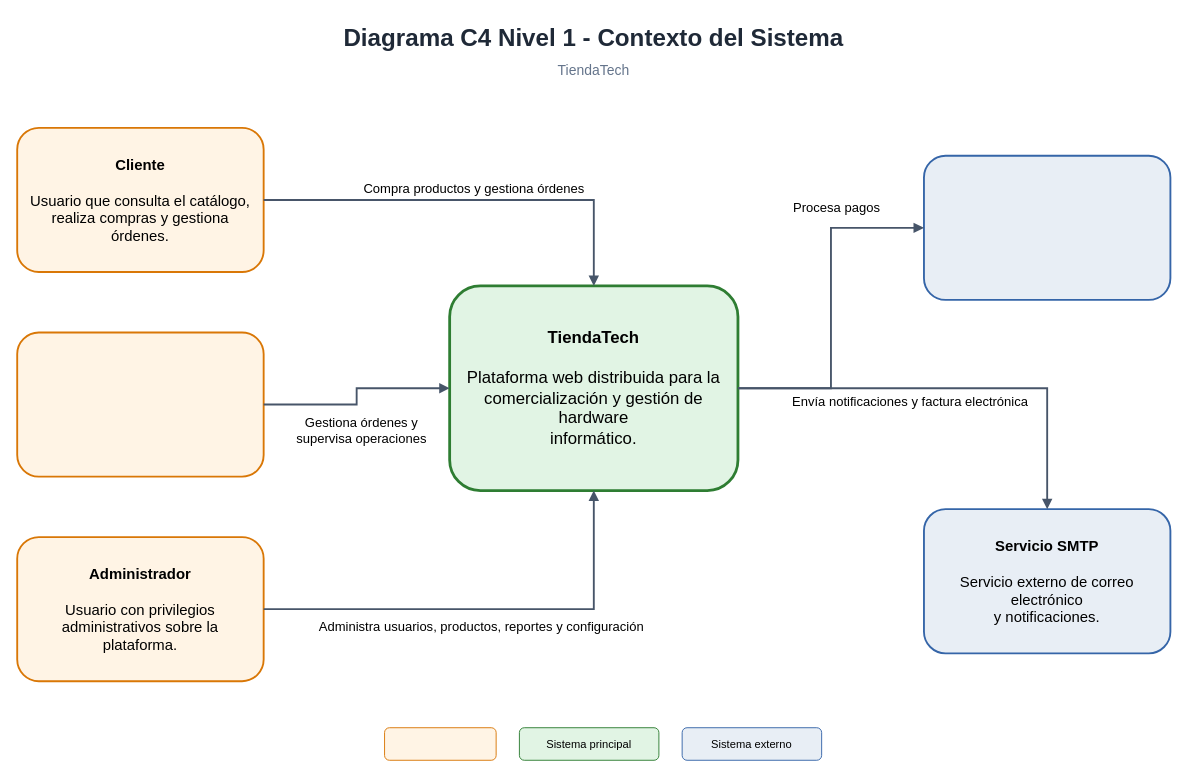
Image size: 1187x777. Some labels were removed from this diagram. The centre of each missing label's shape, as x and y in pixels:
"PayPal API Sistema externo de procesamiento de pagos." belongs at pixel 1047 227.
"Persona" belongs at pixel 440 743.
"Trabajador Personal encargado de la gestión operativa de la tienda." belongs at pixel 140 404.
